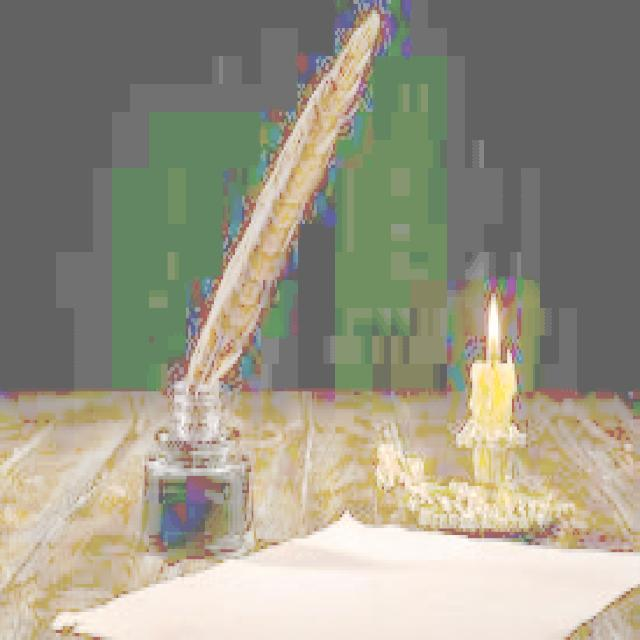api: (478, 291, 504, 361)
